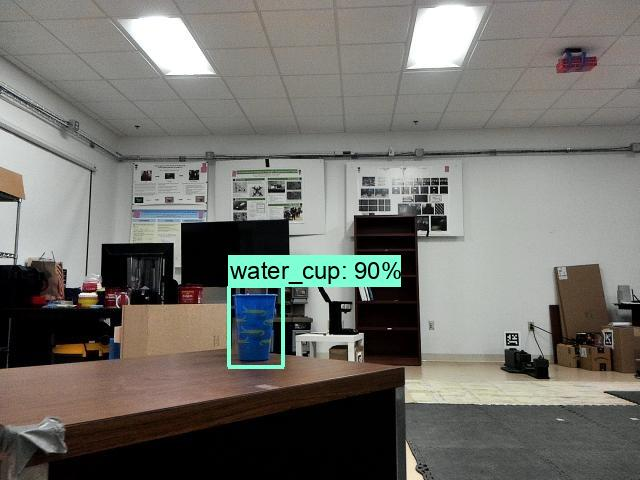water_cup: (227, 288, 283, 366)
